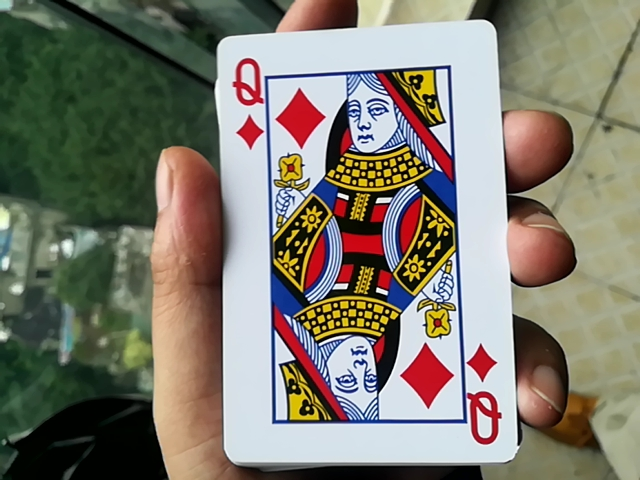fk q: (204, 23, 527, 472)
